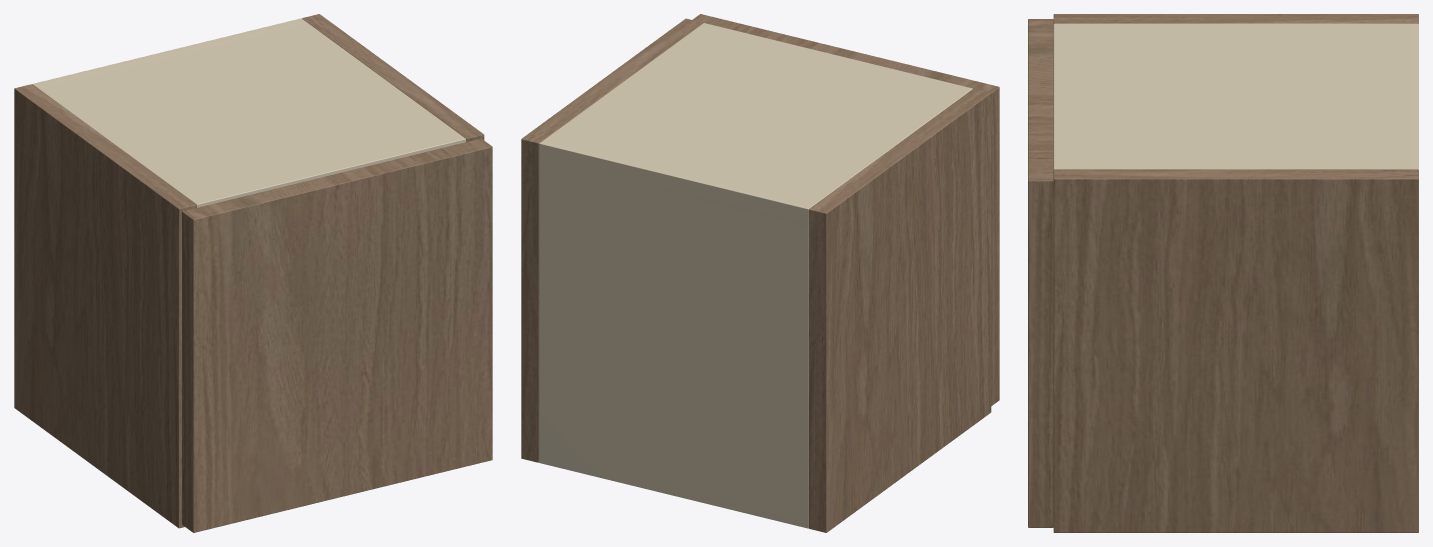
Rendered from oppein-ply-mnw-w1212.glb.
3 views of the same model, side by side, from view 1: azimuth 30°, elevation 25°; view 2: azimuth 150°, elevation 25°; view 3: azimuth 270°, elevation 25° (orthographic). The views are drawn at different scales.
Parts seen in each view (by area): view 1: Door, Cabinet side, Cabinet top, Cabinet side.001, Cabinet back; view 2: Cabinet back, Cabinet side, Cabinet top, Cabinet side.001, Door; view 3: Cabinet side.001, Cabinet top, Door, Cabinet side, Cabinet back.
Part boxes in pixels (left/top/right/bottom): Door: left=182, top=138, right=492, bottom=532; Cabinet side: left=14, top=84, right=196, bottom=528; Cabinet top: left=38, top=19, right=466, bottom=207; Cabinet side.001: left=302, top=14, right=484, bottom=141; Cabinet back: left=32, top=18, right=307, bottom=88; Cabinet back: left=539, top=138, right=814, bottom=528; Cabinet side: left=808, top=88, right=991, bottom=532; Cabinet top: left=540, top=23, right=972, bottom=226; Cabinet side.001: left=521, top=18, right=703, bottom=462; Door: left=692, top=14, right=999, bottom=405; Cabinet side.001: left=1053, top=169, right=1418, bottom=532; Cabinet top: left=1053, top=23, right=1418, bottom=169; Door: left=1028, top=19, right=1053, bottom=527; Cabinet side: left=1053, top=14, right=1418, bottom=23; Cabinet back: left=1404, top=23, right=1418, bottom=169.
Size of the model in its own units: 0.3048 by 0.3048 by 0.3048.
Materials: 2 (1 with a texture image).
